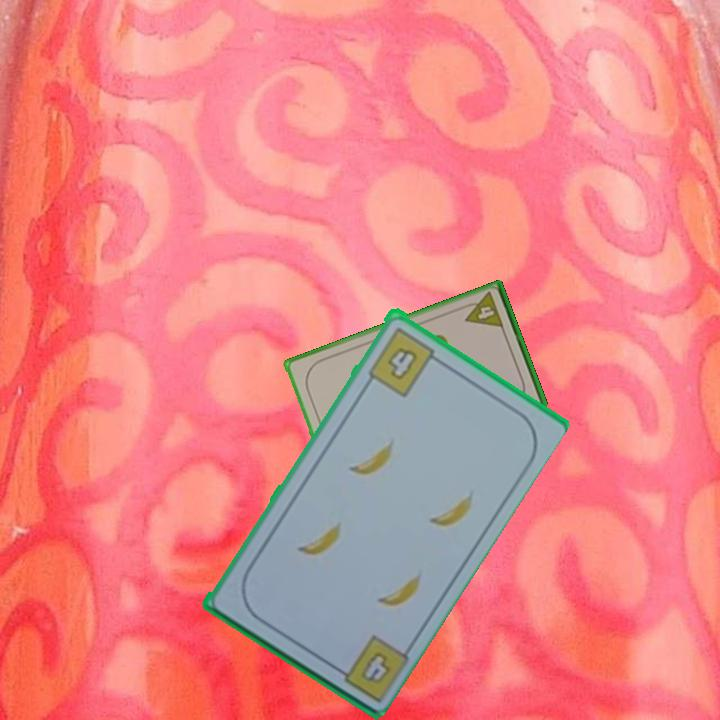4b: (327, 630, 410, 704), (364, 323, 444, 399)
4p: (458, 289, 506, 331)
